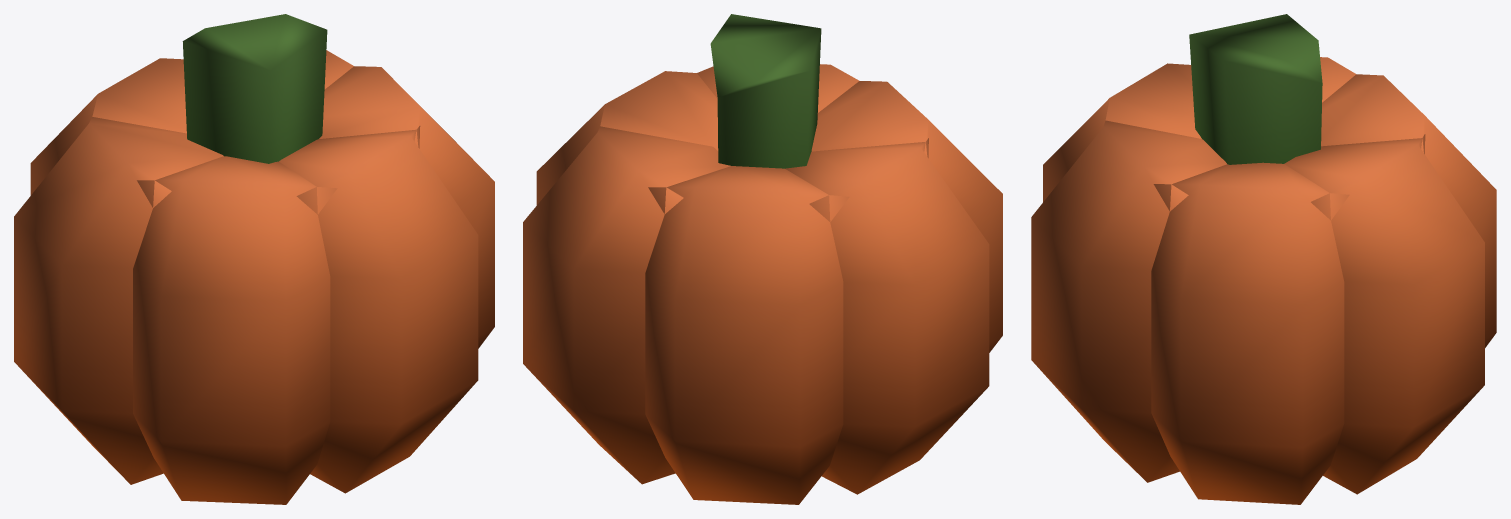
The model's file is Pumpkin.gltf.
3 views of the same model, side by side, from view 1: azimuth 30°, elevation 25°; view 2: azimuth 150°, elevation 25°; view 3: azimuth 270°, elevation 25° (orthographic). The views are drawn at different scales.
Visible parts, largest first — view 1: Pumpkin; view 2: Pumpkin; view 3: Pumpkin.
Boxes of the visible parts, box(x1,y1,x2,y2) form: Pumpkin: box(14, 14, 494, 504); Pumpkin: box(523, 14, 1002, 504); Pumpkin: box(1031, 14, 1496, 504).
Bounding box in the file's own units: 0.4891 × 0.45 × 0.4732.
1 material, 1 textured.
